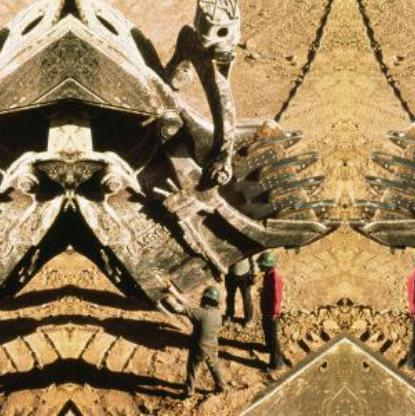helmet: (255, 249, 277, 269), (202, 285, 221, 303)
